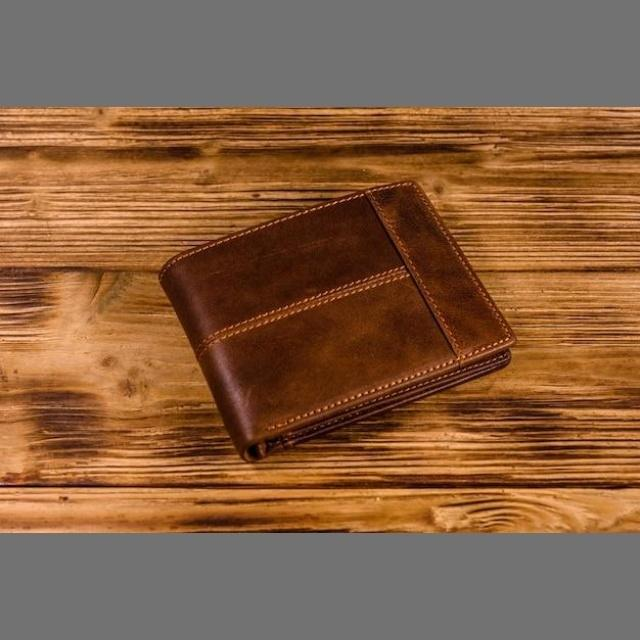Wallet: (111, 154, 603, 460)
